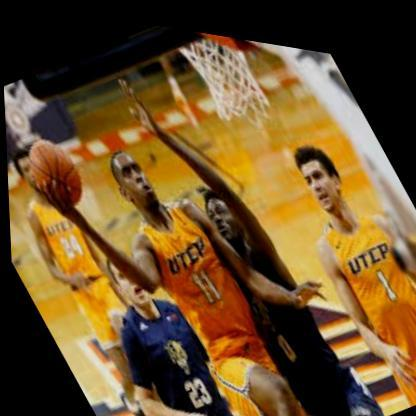basketball: (16, 125, 94, 219)
